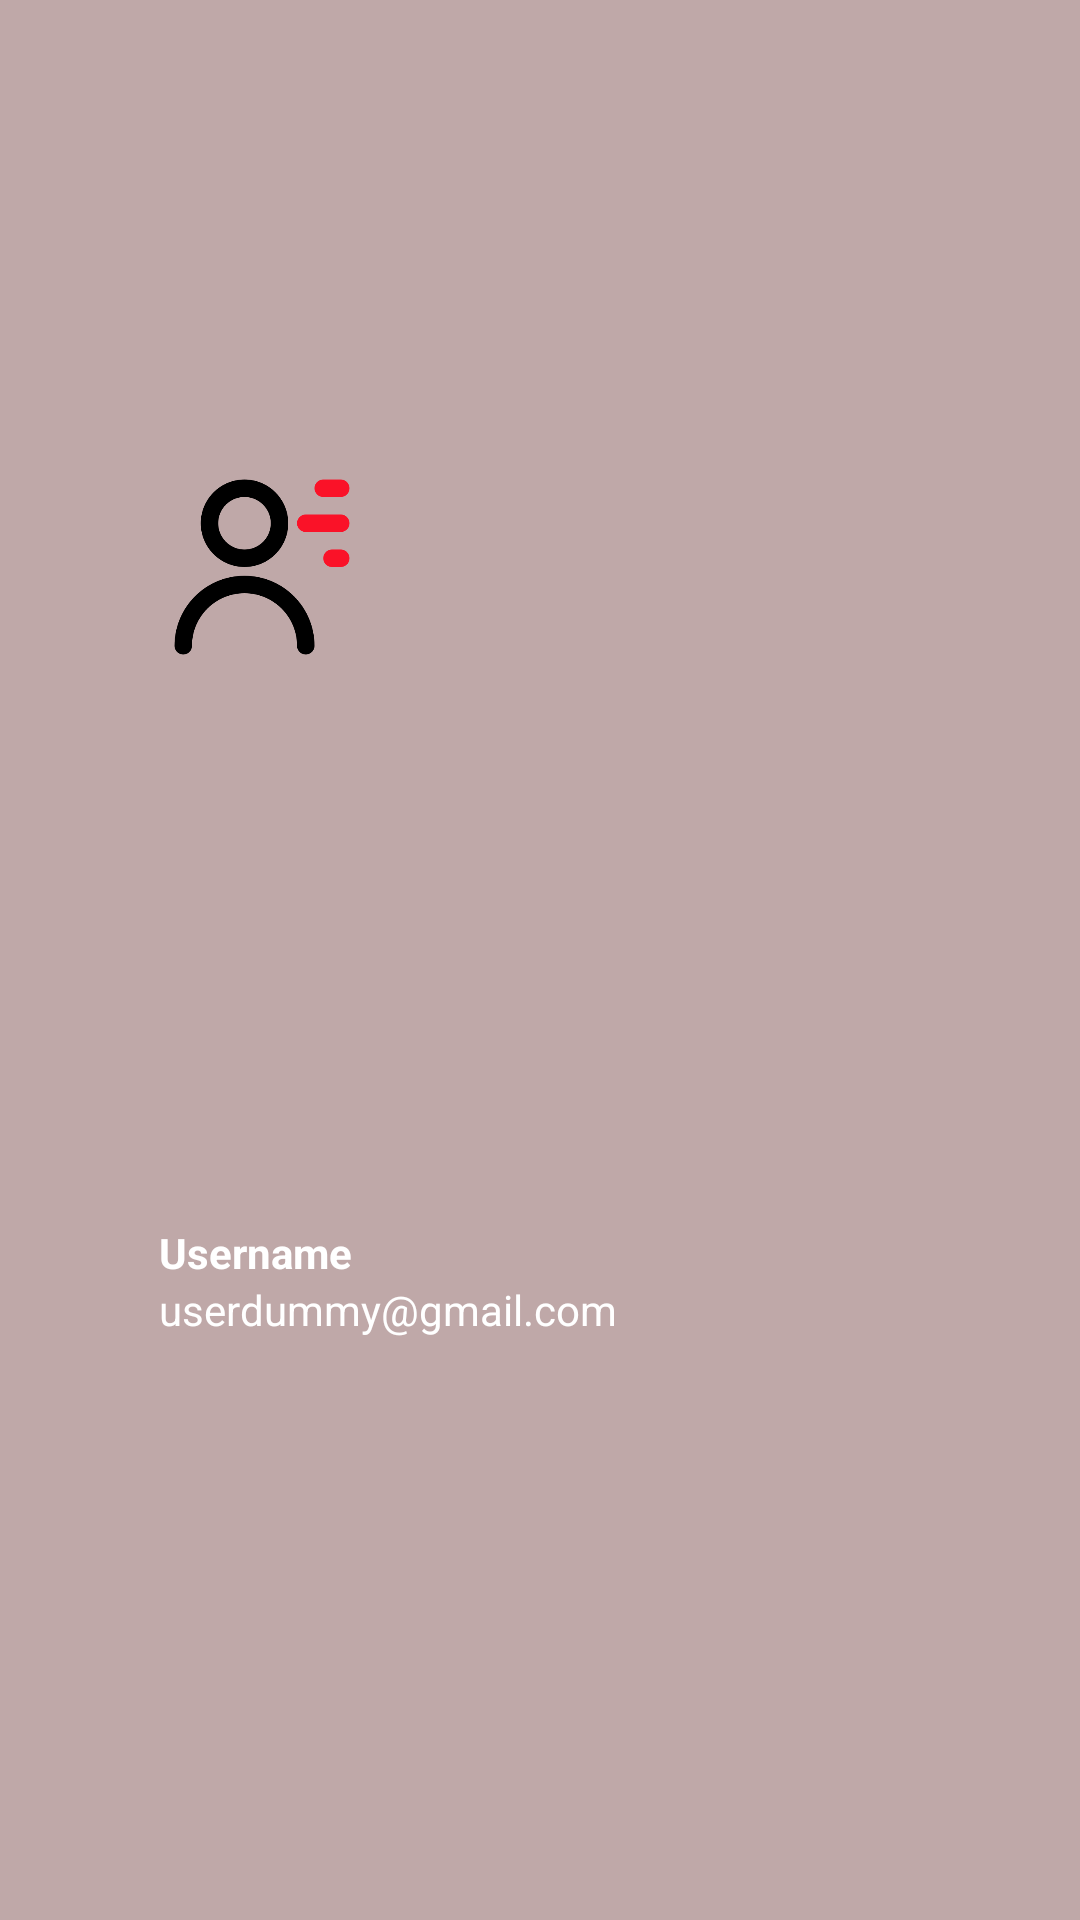

Where to tap for icons on this 1080px x 1920px app screen, as point (x, y):
user: point (262, 567)
